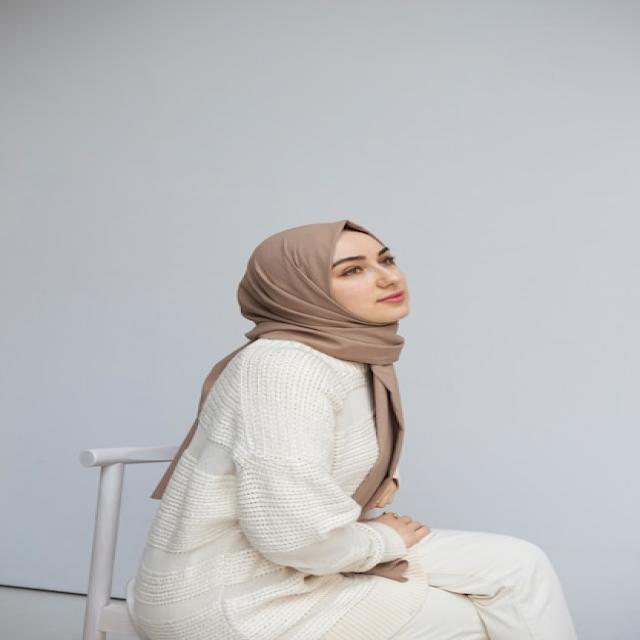Person: (125, 220, 579, 640)
